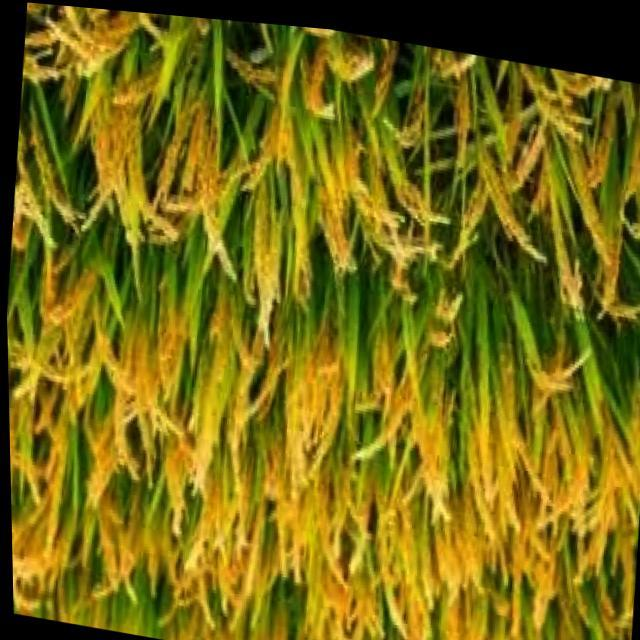Padi: (68, 66, 282, 260), (510, 60, 640, 334), (298, 100, 476, 288), (378, 320, 478, 522), (106, 296, 218, 432), (294, 340, 352, 482)
